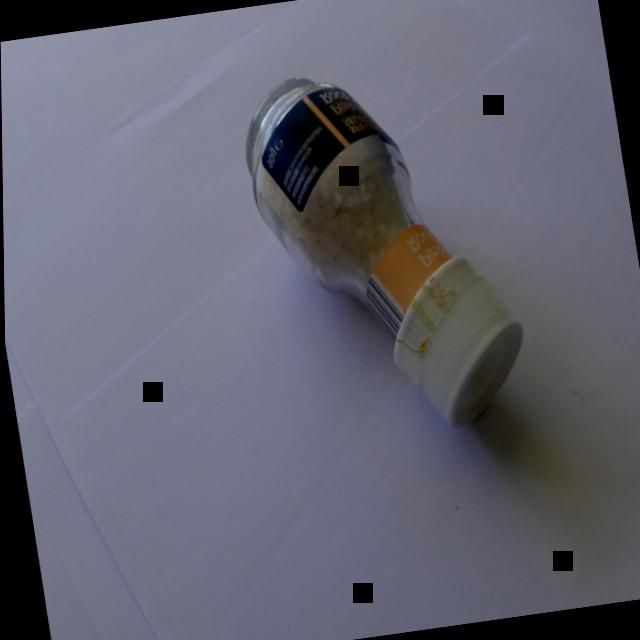Salt: (197, 41, 556, 473)
